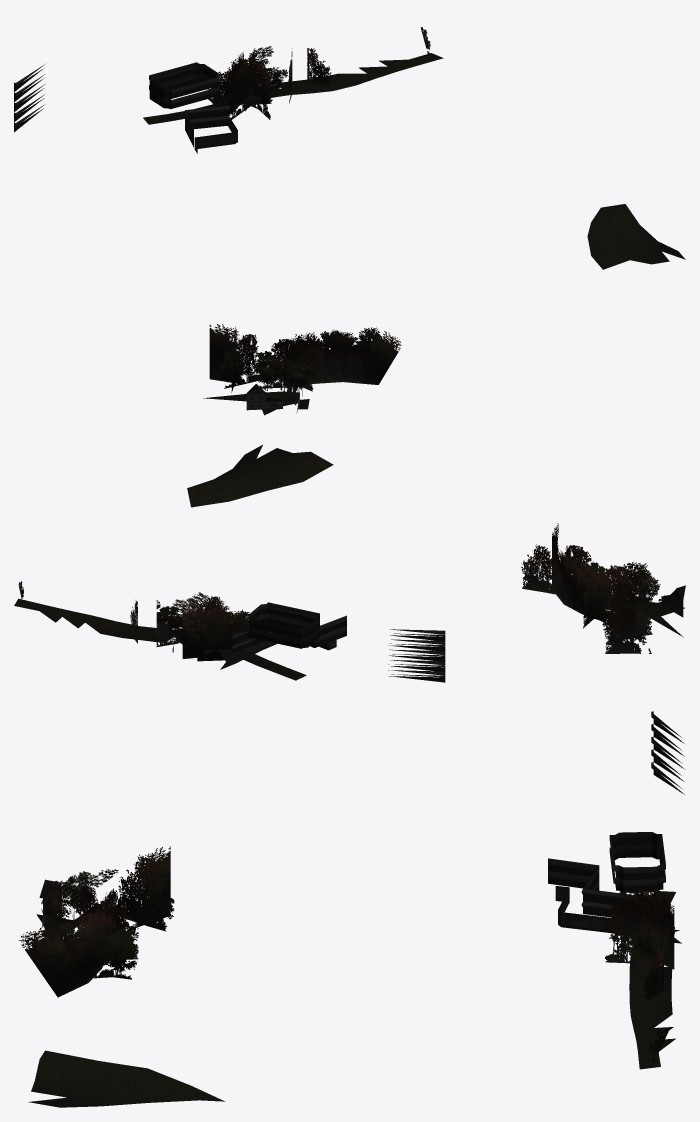
Rendered from cell_3_-12.gltf.
3 views of the same model, one above another, from view 1: azimuth 30°, elevation 25°; view 2: azimuth 150°, elevation 25°; view 3: azimuth 270°, elevation 25° (orthographic). The views are drawn at different scales.
Visible parts, largest first — view 1: cell_3_-12; view 2: cell_3_-12; view 3: cell_3_-12.
Part boxes in pixels (x1,y1,x2,y2): cell_3_-12: (14,27,685,415); cell_3_-12: (14,445,685,682); cell_3_-12: (18,711,685,1107).
Bounding box in the file's own units: 274 × 93.44 × 276.
18 materials, 18 textured.
